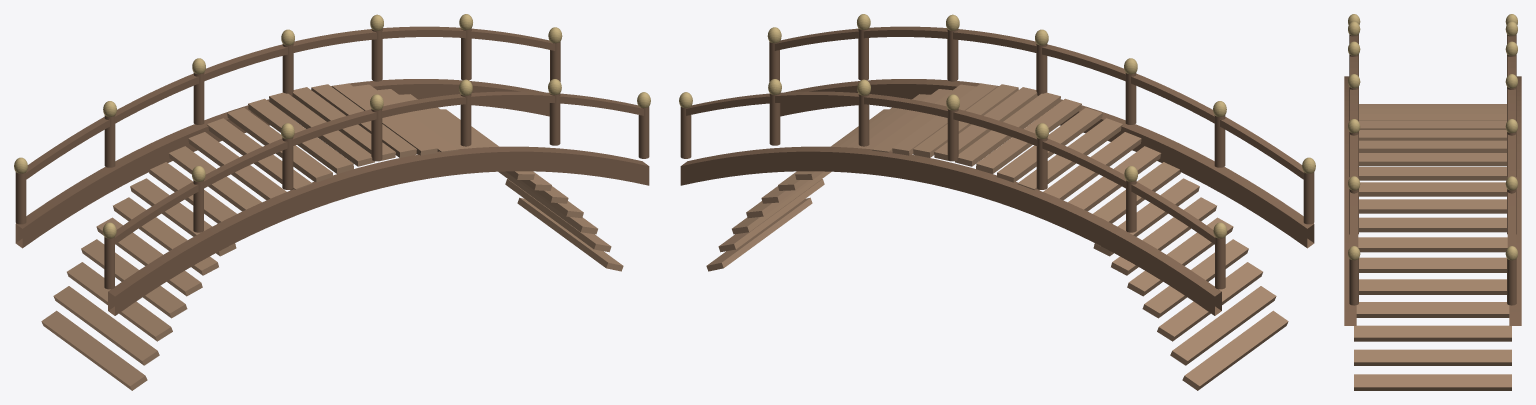
Rendered from bridge_wood_01.glb.
3 renders of one model, left to right at view 1: azimuth 30°, elevation 25°; view 2: azimuth 150°, elevation 25°; view 3: azimuth 270°, elevation 25°, orthographic. The views are drawn at different scales.
Visible parts, largest first — view 1: Bridge_Wood_01; view 2: Bridge_Wood_01; view 3: Bridge_Wood_01.
Boxes of the visible parts, x1,y1,x2,y2 form: Bridge_Wood_01: [14, 14, 650, 390]; Bridge_Wood_01: [679, 14, 1315, 390]; Bridge_Wood_01: [1344, 14, 1521, 390].
Bounding box in the file's own units: 8.18 × 3.38 × 2.58.
